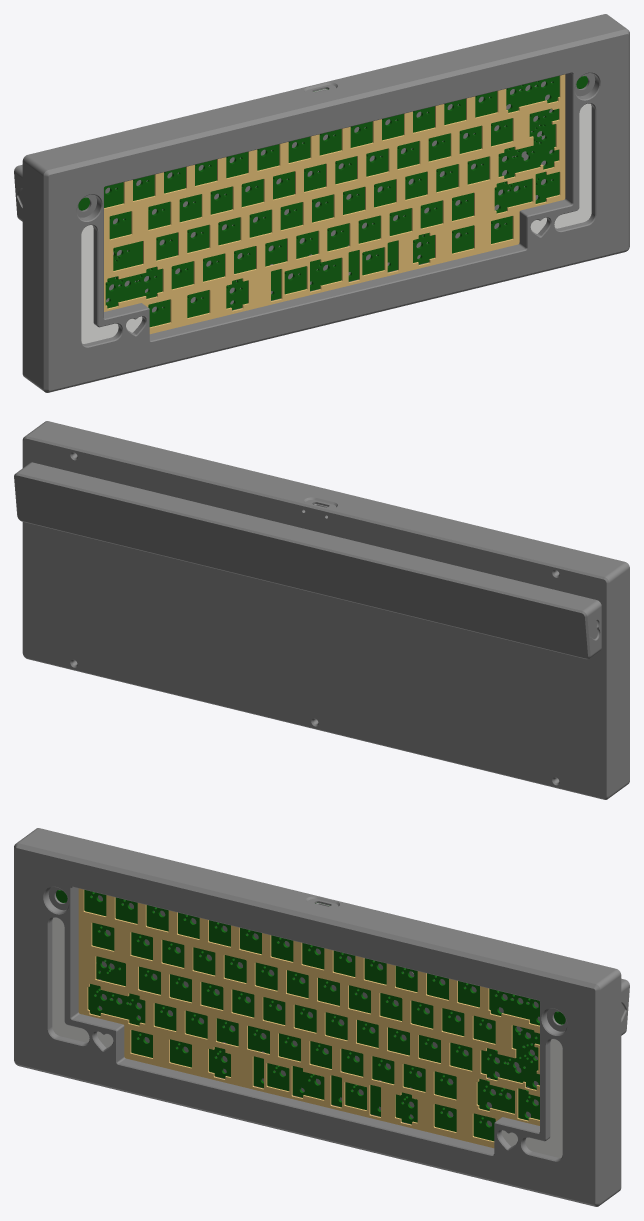
File: heartline.fbx
3 views of the same model, one above another, from view 1: azimuth 30°, elevation 25°; view 2: azimuth 150°, elevation 25°; view 3: azimuth 330°, elevation 25° (orthographic).
Parts seen in each view (by area): view 1: Body1 (×6); view 2: Body1 (×3); view 3: Body1 (×6).
Boxes of the visible parts, x1,y1,x2,y2 form: Body1 (×6): (22, 14, 629, 392); Body1 (×3): (14, 421, 629, 799); Body1 (×6): (14, 828, 621, 1206).
Bounding box in the file's own units: 359 × 130 × 41.49.
